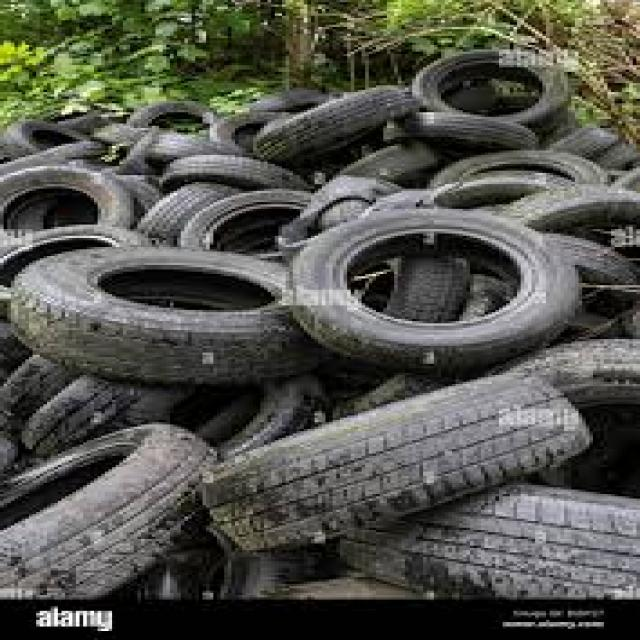Rubber -Non-Biodegradable but Recyclable-: (0, 47, 636, 610)
